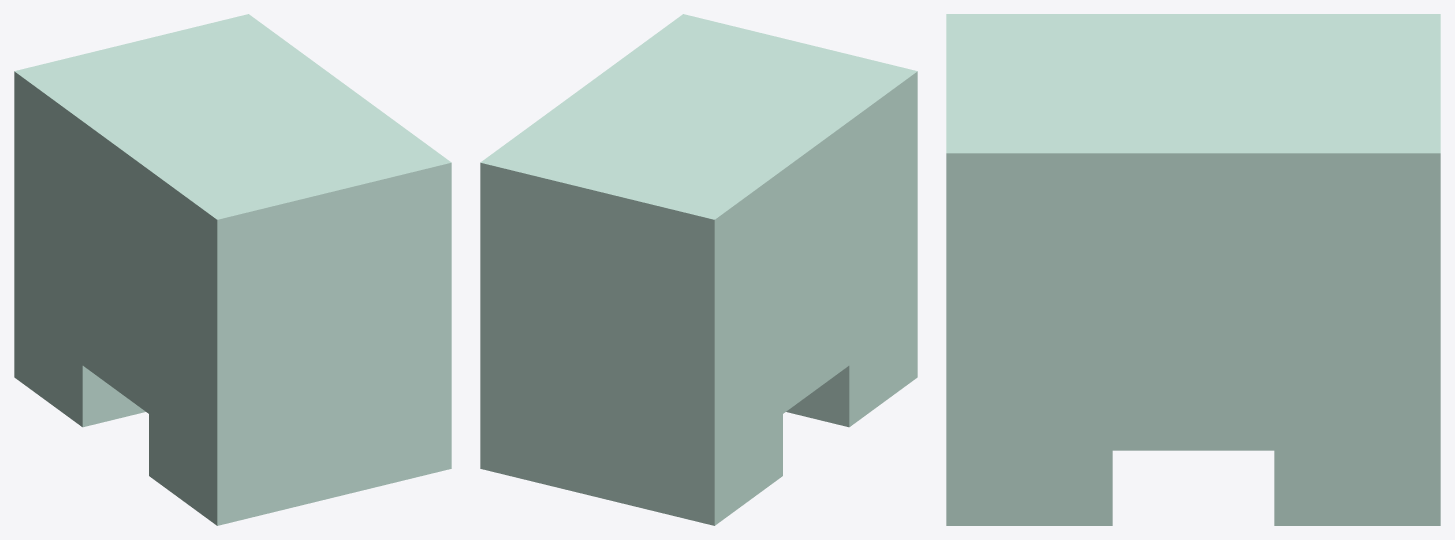
The picture shows the model from 3 angles, left to right: view 1: azimuth 30°, elevation 25°; view 2: azimuth 150°, elevation 25°; view 3: azimuth 270°, elevation 25°; orthographic projection. The views are drawn at different scales.
Visible parts, largest first — view 1: Renderer Node; view 2: Renderer Node; view 3: Renderer Node.
Boxes of the visible parts, box(x1,y1,x2,y2) form: Renderer Node: box(14, 14, 451, 525); Renderer Node: box(480, 14, 917, 525); Renderer Node: box(946, 14, 1440, 525).
Bounding box in the file's own units: 0.5 × 0.6237 × 0.75.
